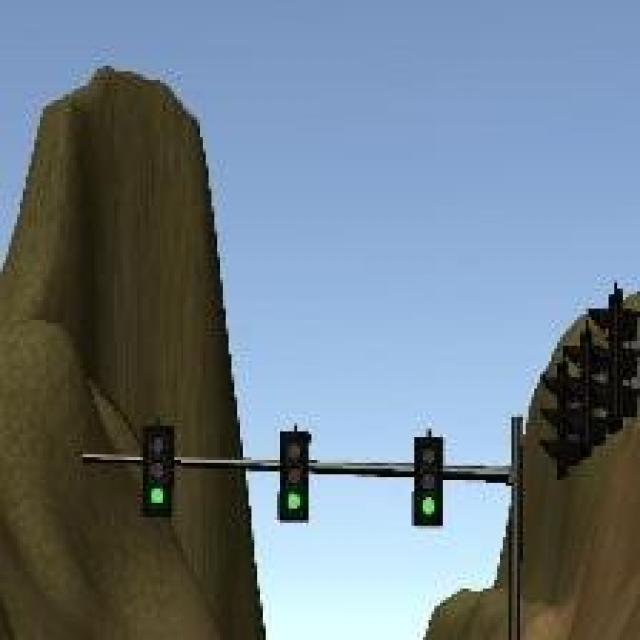green_light: (140, 423, 177, 518), (280, 428, 308, 522), (414, 437, 442, 526)
